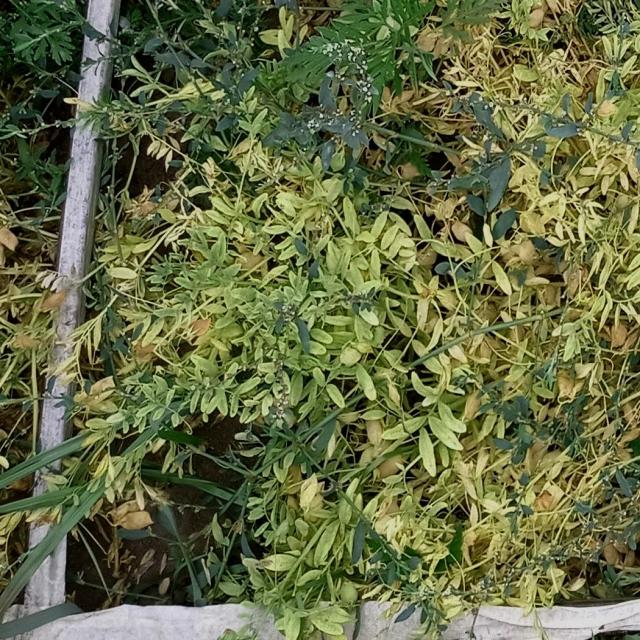AMBEL: (322, 0, 498, 106)
